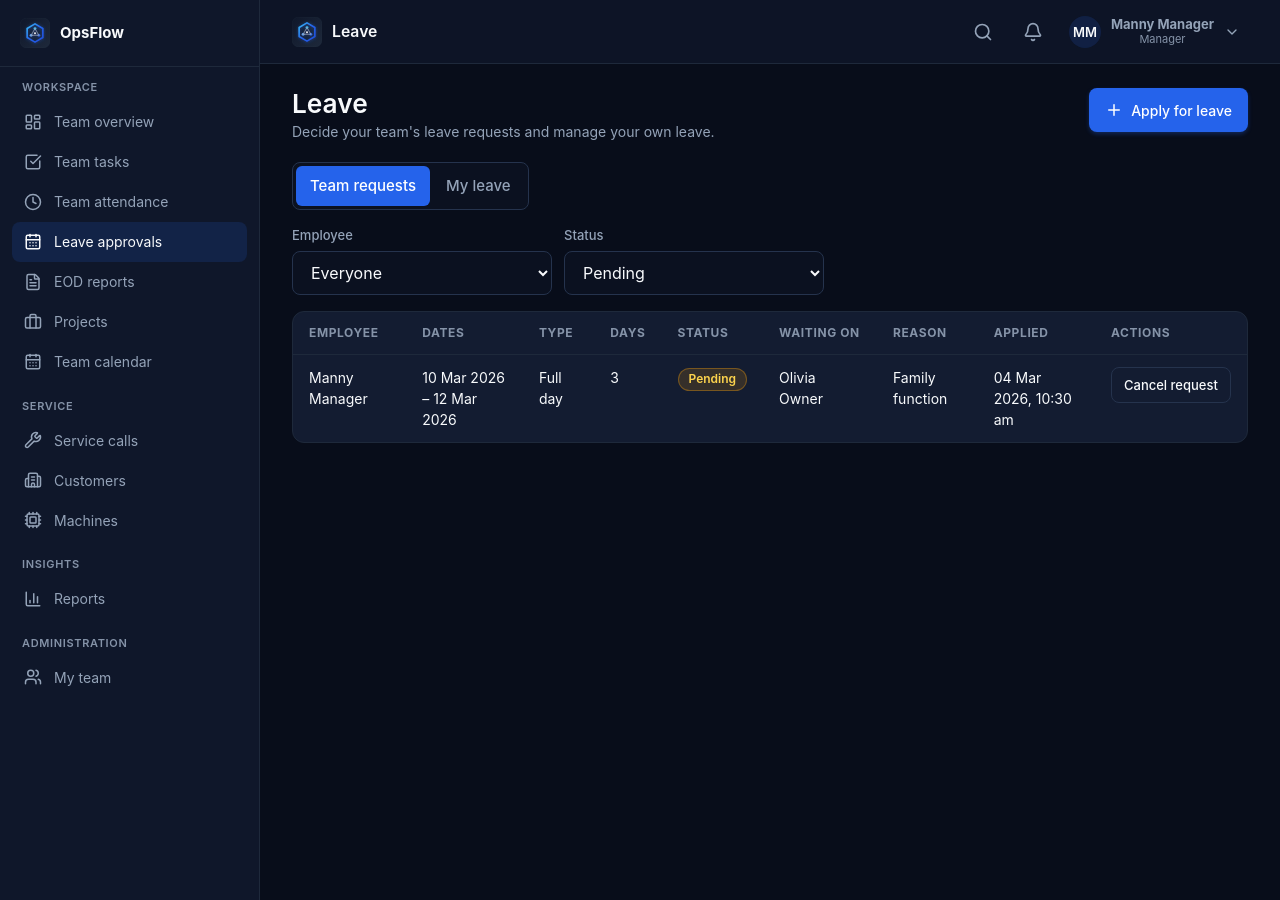
Leave for a manager › "My leave" lists the manager's own requests, can apply, and can cancel a pending one
Click the button "My leave": click(478, 186) top-left (432, 166), bottom-right (525, 206)
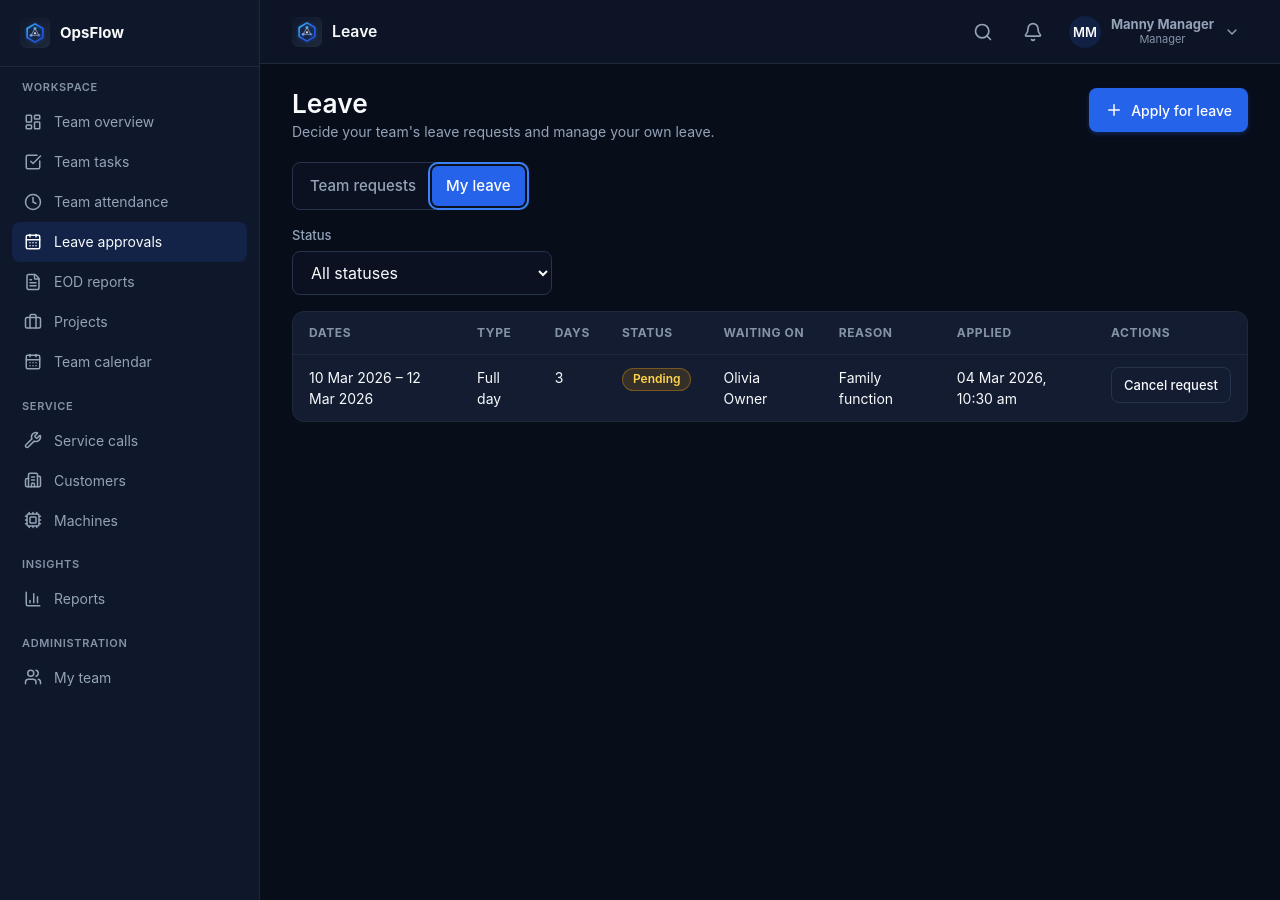
Click the button "Cancel request": click(1171, 385) top-left (1111, 367), bottom-right (1231, 403)
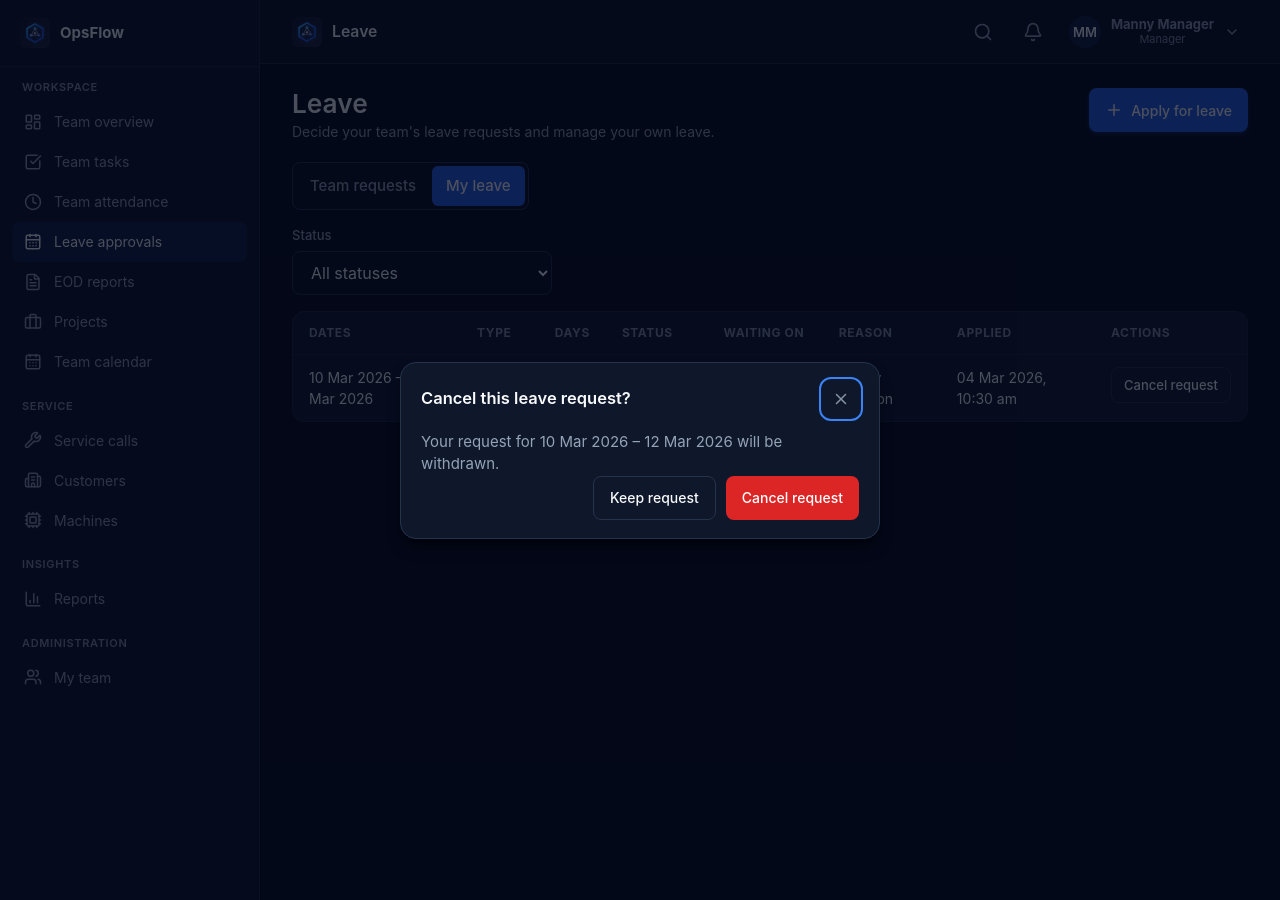
Click the button "Cancel request": click(792, 498) top-left (726, 476), bottom-right (859, 520)
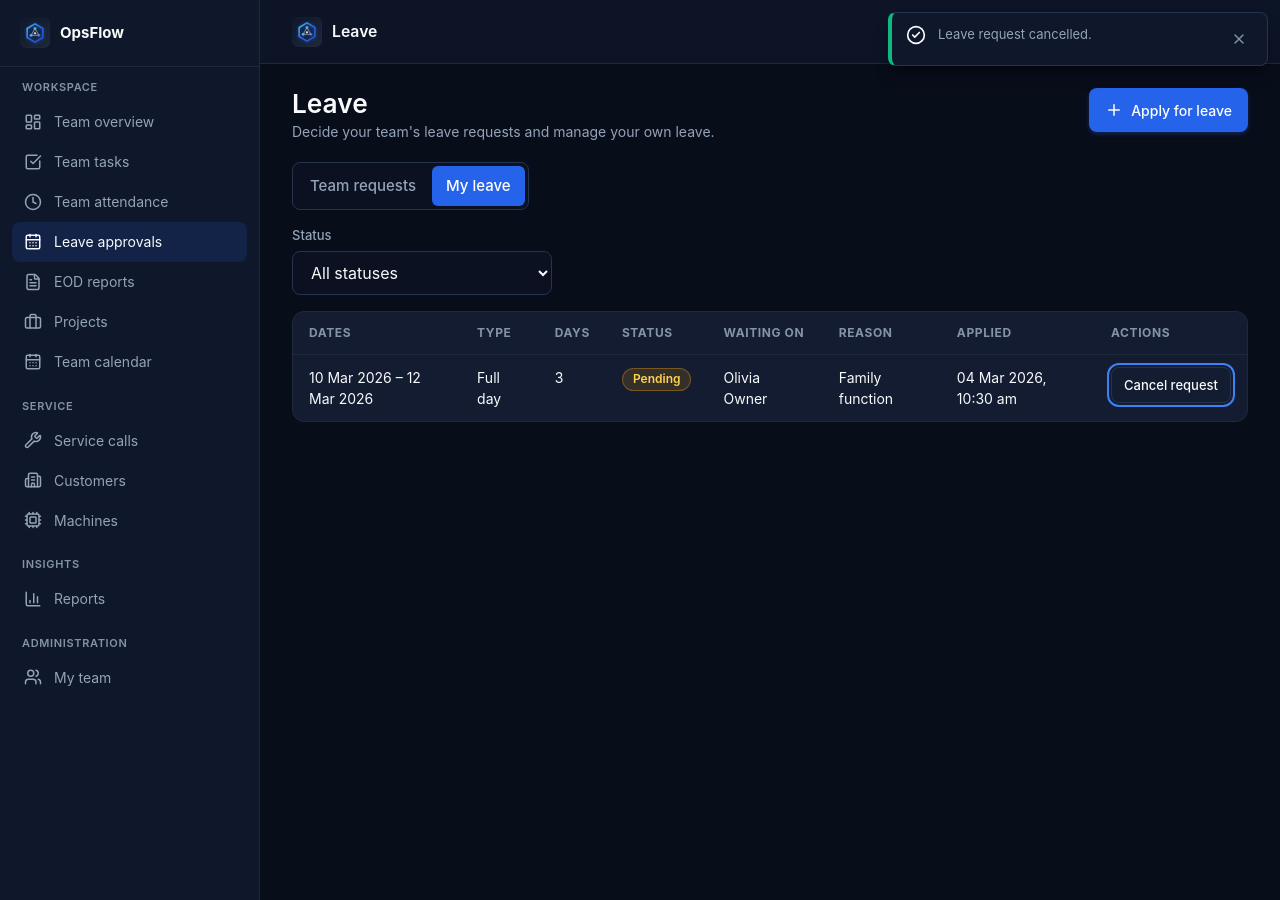
Expected: the button "Apply for leave" is shown, top-left (1089, 88), bottom-right (1248, 132)
Expected: the text "Leave request cancelled." is shown, top-left (938, 26), bottom-right (1092, 42)
